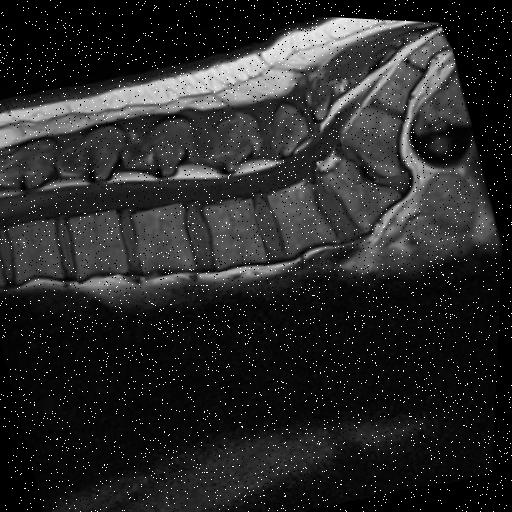L1: (71, 206, 130, 275)
L2: (131, 199, 196, 269)
L3: (204, 194, 269, 265)
L4: (269, 179, 339, 250)
L5: (320, 147, 400, 226)
S1: (341, 99, 404, 171)
